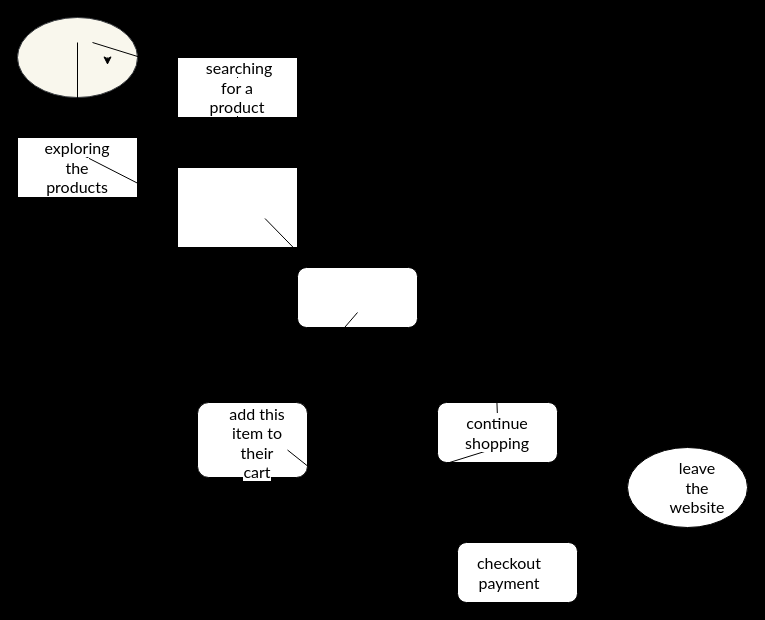
This 765x620 diagram has some shape labels left out. The centre of each missing label's shape, as x and y in pixels:
"entering the website" belongs at point (77, 57).
"looking over the products" belongs at point (237, 207).
"viewing a specific product" belongs at point (357, 297).
